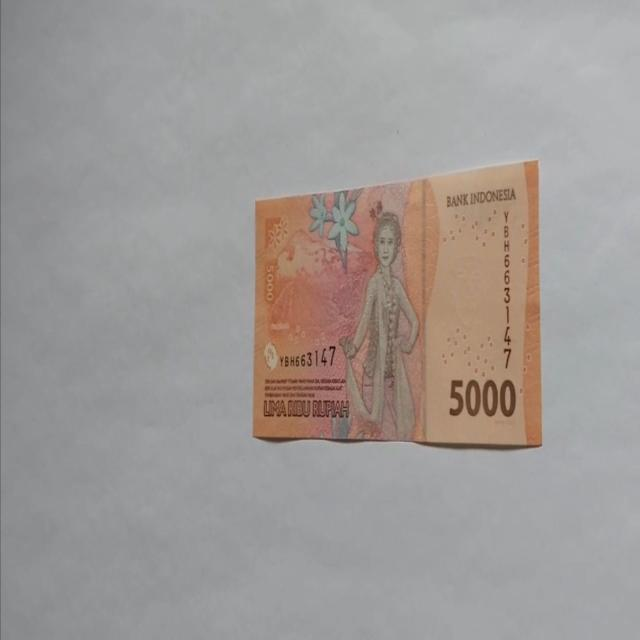lima ribu rupiah: (252, 157, 542, 447), (338, 211, 420, 441)
